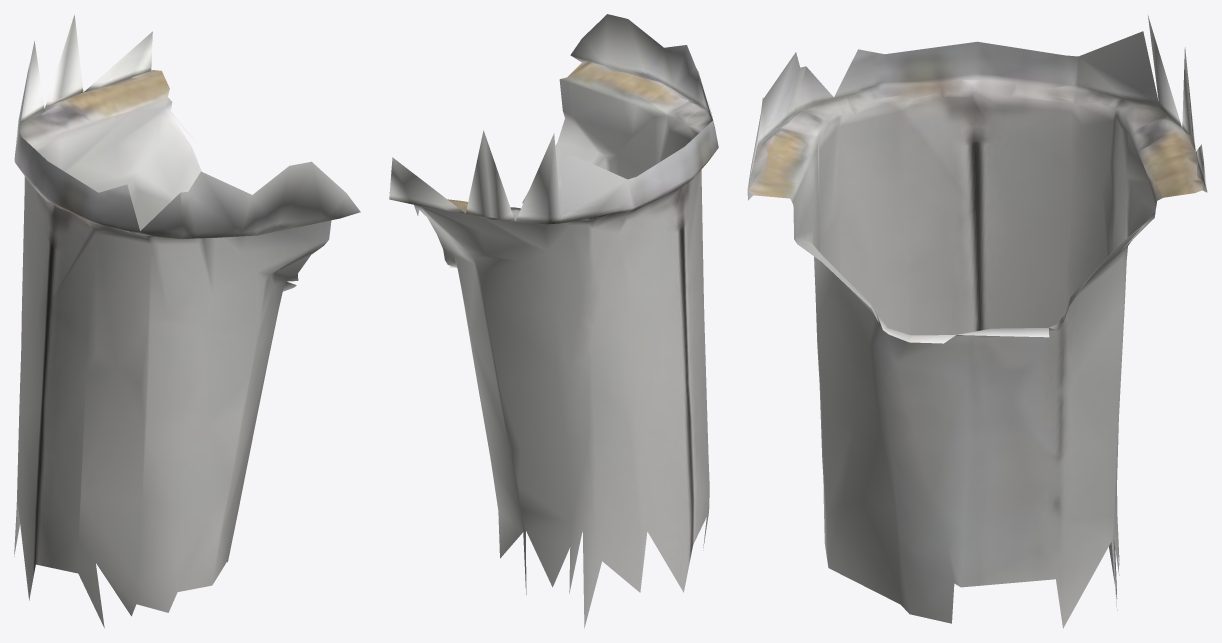
The model's file is hombre_muslo_der.obj.
3 renders of one model, left to right at view 1: azimuth 30°, elevation 25°; view 2: azimuth 150°, elevation 25°; view 3: azimuth 270°, elevation 25°, orthographic. The views are drawn at different scales.
Visible parts, largest first — view 1: hombre_muslo_der; view 2: hombre_muslo_der; view 3: hombre_muslo_der.
Boxes of the visible parts, x1,y1,x2,y2 form: hombre_muslo_der: (14, 15, 360, 627); hombre_muslo_der: (389, 14, 718, 628); hombre_muslo_der: (747, 15, 1207, 628).
Bounding box in the file's own units: 0.2162 × 0.4694 × 0.3282.
